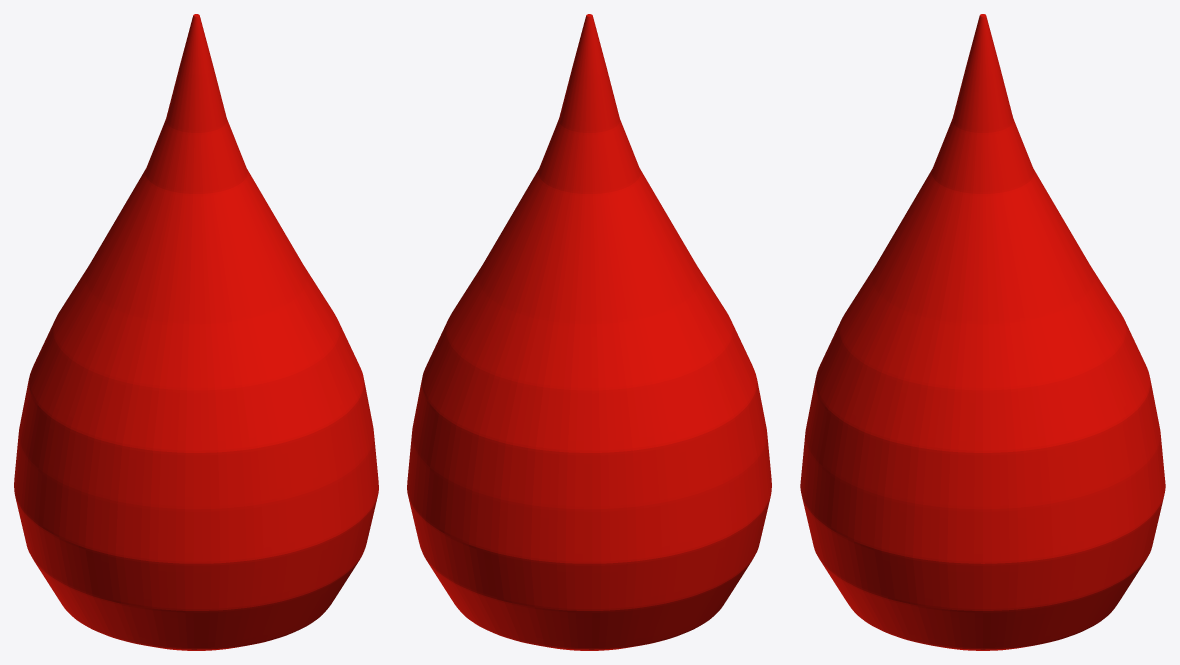
Rendered from NSM_Sang_High.fbx.
3 views of the same model, side by side, from view 1: azimuth 30°, elevation 25°; view 2: azimuth 150°, elevation 25°; view 3: azimuth 270°, elevation 25° (orthographic).
Visible parts, largest first — view 1: NSM_Sang_High; view 2: NSM_Sang_High; view 3: NSM_Sang_High.
Boxes of the visible parts, left/top/right/bottom form: NSM_Sang_High: left=14, top=14, right=378, bottom=650; NSM_Sang_High: left=407, top=14, right=771, bottom=650; NSM_Sang_High: left=800, top=14, right=1165, bottom=650.
Size of the model in its own units: 37.32 by 68.91 by 37.32.
